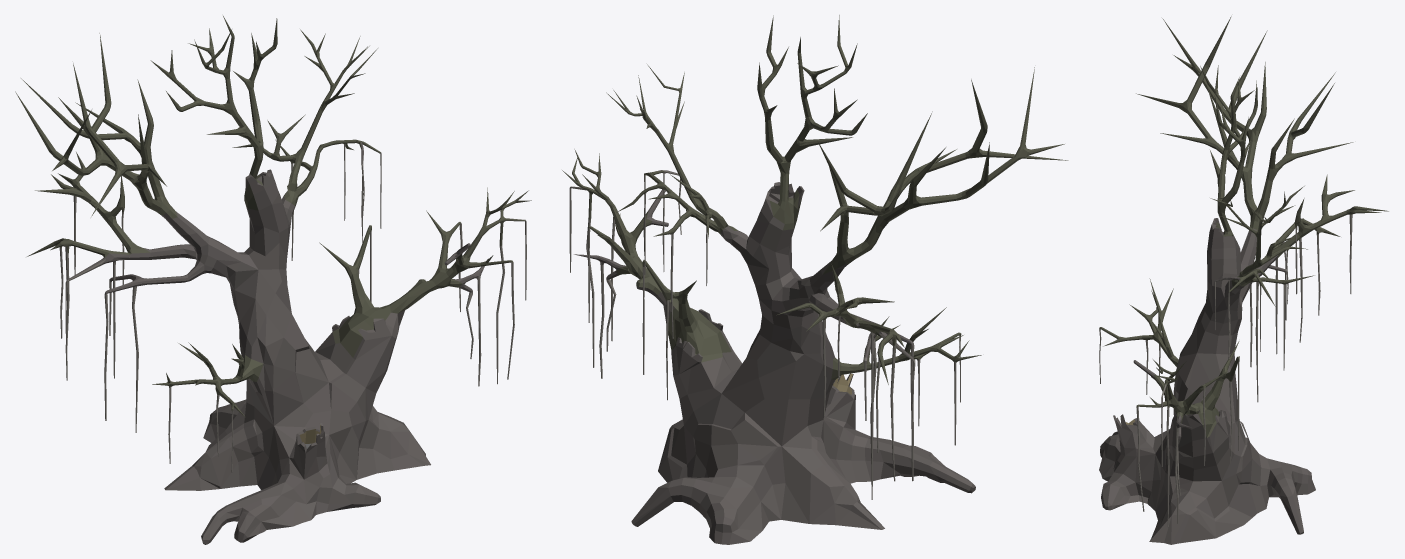
File: SM_Tree_007.glb
3 views of the same model, side by side, from view 1: azimuth 30°, elevation 25°; view 2: azimuth 150°, elevation 25°; view 3: azimuth 270°, elevation 25° (orthographic). The views are drawn at different scales.
Visible parts, largest first — view 1: SM_Tree_007; view 2: SM_Tree_007; view 3: SM_Tree_007.
Boxes of the visible parts, <box> form: SM_Tree_007: <box>15,16,531,544</box>; SM_Tree_007: <box>562,15,1068,544</box>; SM_Tree_007: <box>1099,16,1388,544</box>.
Bounding box in the file's own units: 9.41 × 8.98 × 5.75.
Materials: 1 (1 with a texture image).
